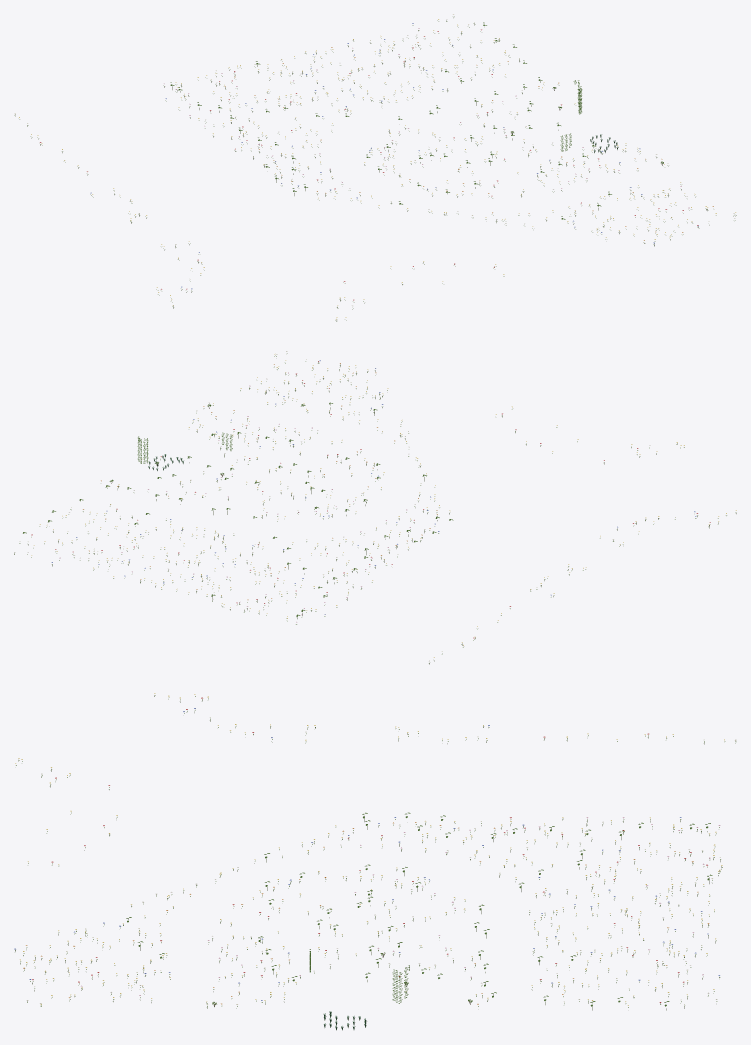
The picture shows the model from 3 angles, top to bottom: view 1: azimuth 30°, elevation 25°; view 2: azimuth 150°, elevation 25°; view 3: azimuth 270°, elevation 25°; orthographic projection. The views are drawn at different scales.
Visible parts, largest first — view 1: GROUND_FLORA_s_-9_1; view 2: GROUND_FLORA_s_-9_1; view 3: GROUND_FLORA_s_-9_1.
Part boxes in pixels (x1=…): GROUND_FLORA_s_-9_1: x1=14, y1=14, x2=736, y2=321; GROUND_FLORA_s_-9_1: x1=14, y1=351, x2=736, y2=664; GROUND_FLORA_s_-9_1: x1=14, y1=693, x2=736, y2=1030.
Size of the model in its own units: 128 by 11 by 124.
